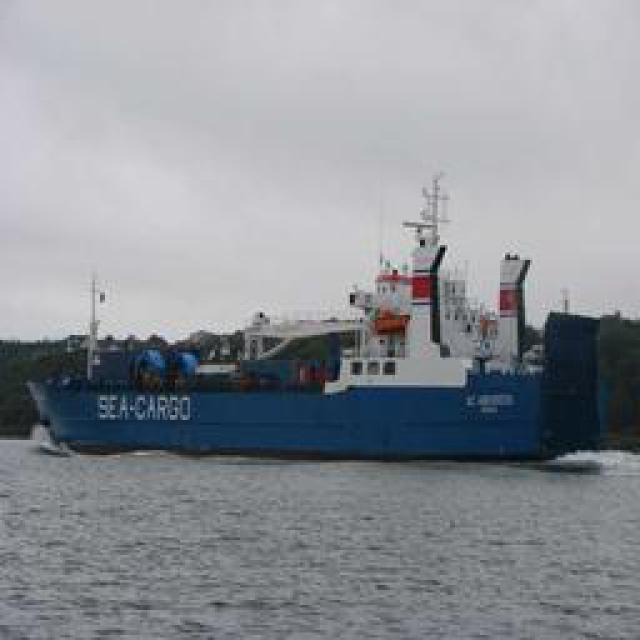Ship: (26, 177, 599, 460)
